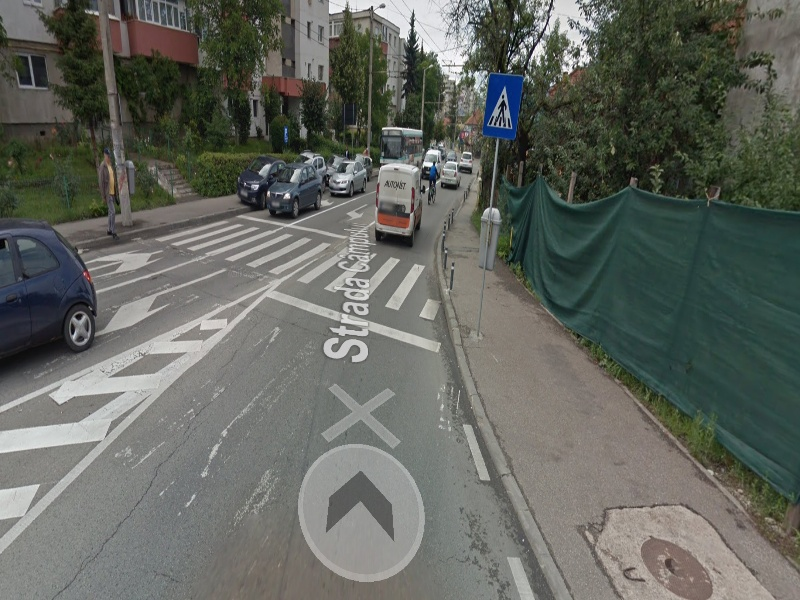crosswalk: (157, 213, 445, 355)
crosswalk_sign: (482, 71, 524, 145)
pedestrian: (95, 145, 125, 243)
